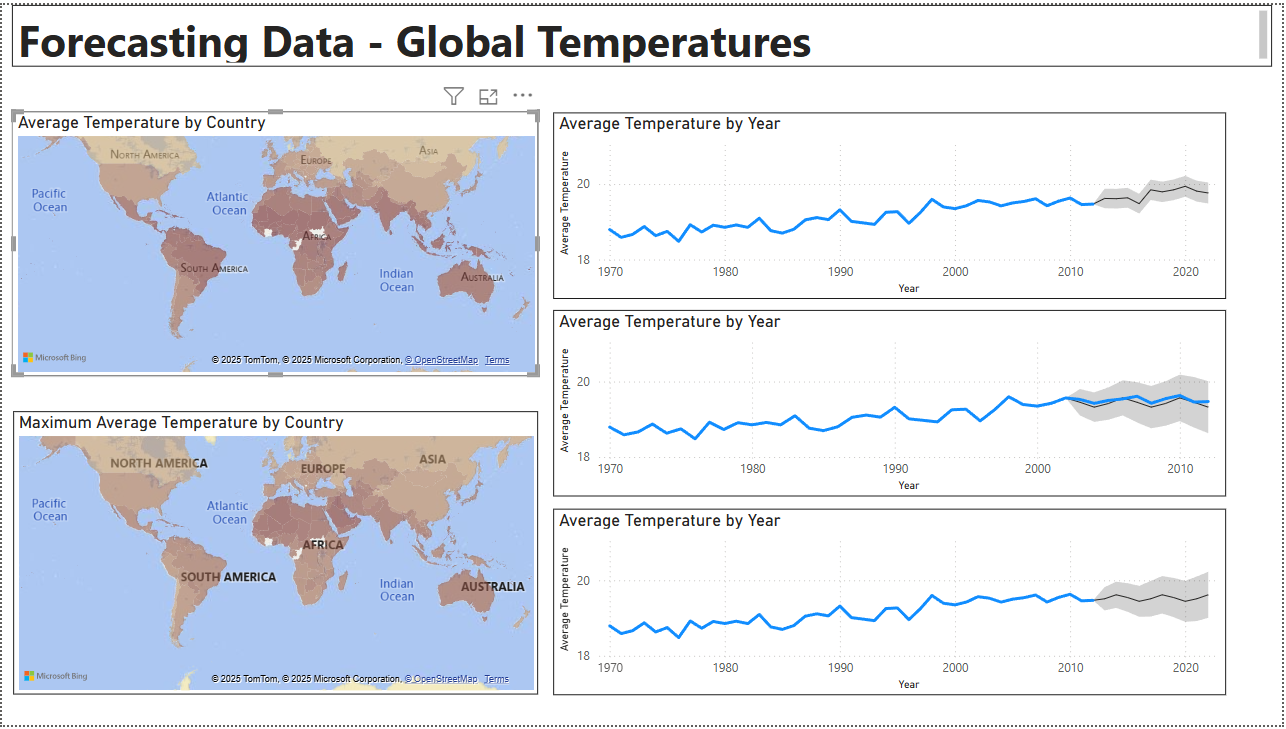

What the dashboard file says about the page in this screenshot:
{"tool":"powerbi","page":{"name":"Page 1","canvas":[1280,720],"ordinal":0},"visuals":[{"type":"textbox","box":[9.6,0,1259.7,61.7],"z":0},{"type":"filledMap","fields":{"Category":["1970-2012.Country"]},"box":[10,106.7,526.7,265],"z":1000},{"type":"filledMap","fields":{"Category":["1970-2012.Country"]},"box":[11.7,406.7,525,283.3],"z":2000},{"type":"lineChart","fields":{"Category":["1970-2012.Date.Variation.Date Hierarchy.Year"],"Y":["Avg(1970-2012.AverageTemperature)"]},"box":[551.2,107.5,672.5,186.2],"z":2001},{"type":"lineChart","fields":{"Category":["1970-2012.Date.Variation.Date Hierarchy.Year"],"Y":["Avg(1970-2012.AverageTemperature)"]},"box":[551.2,305,672.5,186.2],"z":2002},{"type":"lineChart","fields":{"Category":["1970-2012.Date.Variation.Date Hierarchy.Year"],"Y":["Avg(1970-2012.AverageTemperature)"]},"box":[551.2,503.8,672.5,186.2],"z":2003}]}

Visuals, with their boxes in screenshot pixels (x1, y1, x2, y2), scaled from the page's 1280x720 canvas onto the 1286x729 screenshot:
textbox: detection(10, 0, 1275, 62)
filledMap - 1970-2012.Country: detection(10, 108, 539, 376)
filledMap - 1970-2012.Country: detection(12, 412, 539, 699)
lineChart - 1970-2012.Date.Variation.Date Hierarchy.Year x Avg(1970-2012.AverageTemperature): detection(554, 109, 1229, 297)
lineChart - 1970-2012.Date.Variation.Date Hierarchy.Year x Avg(1970-2012.AverageTemperature): detection(554, 309, 1229, 497)
lineChart - 1970-2012.Date.Variation.Date Hierarchy.Year x Avg(1970-2012.AverageTemperature): detection(554, 510, 1229, 699)
